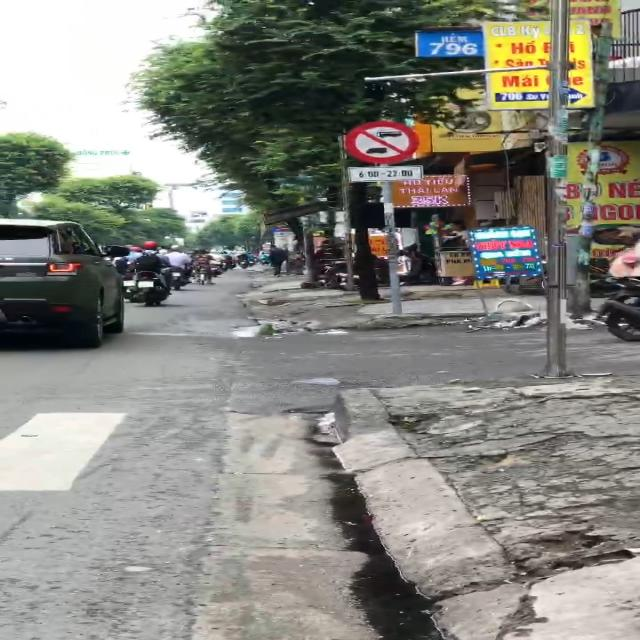Bien bao cam xe oto khach va xe oto tai: (342, 118, 426, 166)
